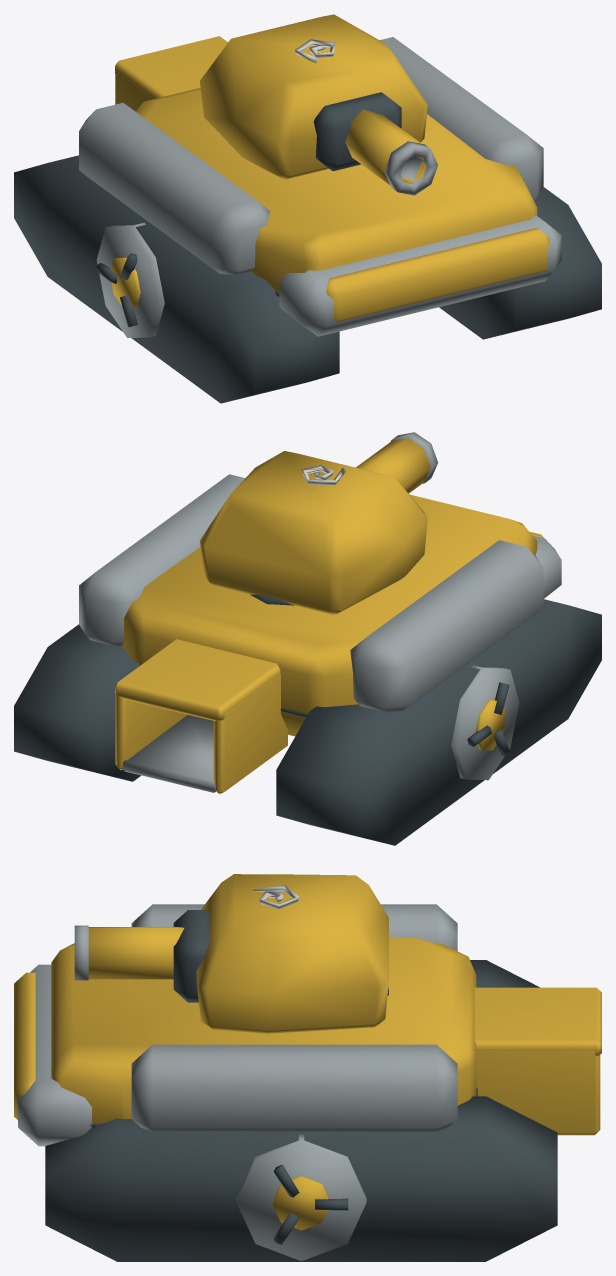
File: TOY_MINER.far.glb
3 views of the same model, one above another, from view 1: azimuth 30°, elevation 25°; view 2: azimuth 150°, elevation 25°; view 3: azimuth 270°, elevation 25° (orthographic). The views are drawn at different scales.
Parts seen in each view (by area): view 1: Body, TurretYaw, WheelLeft, BarrelRecoil; view 2: Body, TurretYaw, WheelLeft, BarrelRecoil; view 3: Body, TurretYaw, WheelRight, BarrelRecoil.
Boxes of the visible parts, x1,y1,x2,y2 form: Body: (14, 36, 601, 403); TurretYaw: (199, 14, 427, 179); WheelLeft: (95, 222, 164, 337); BarrelRecoil: (345, 109, 437, 195); Body: (14, 474, 601, 845); TurretYaw: (200, 451, 427, 614); WheelLeft: (451, 665, 519, 780); BarrelRecoil: (356, 432, 438, 493); Body: (14, 904, 601, 1261); TurretYaw: (173, 874, 388, 1033); WheelRight: (236, 1134, 366, 1261); BarrelRecoil: (74, 925, 184, 980).
Bounding box in the file's own units: 0.8048 × 0.5227 × 1.01.
